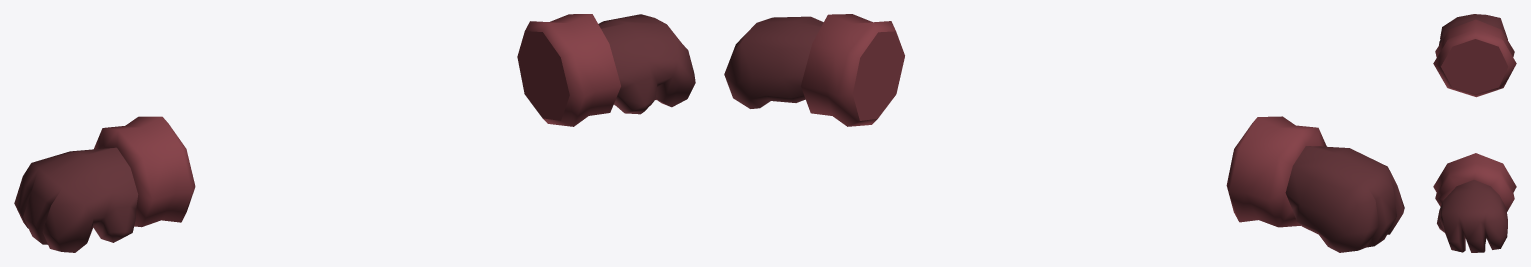
File: Glove_21.fbx
3 renders of one model, left to right at view 1: azimuth 30°, elevation 25°; view 2: azimuth 150°, elevation 25°; view 3: azimuth 270°, elevation 25°, orthographic. The views are drawn at different scales.
Parts seen in each view (by area): view 1: Glove_21; view 2: Glove_21; view 3: Glove_21.
Boxes of the visible parts, x1=… form: Glove_21: x1=14, y1=14, x2=695, y2=252; Glove_21: x1=724, y1=14, x2=1404, y2=252; Glove_21: x1=1433, y1=14, x2=1516, y2=252.
Bounding box in the file's own units: 133 × 19.77 × 22.85.
